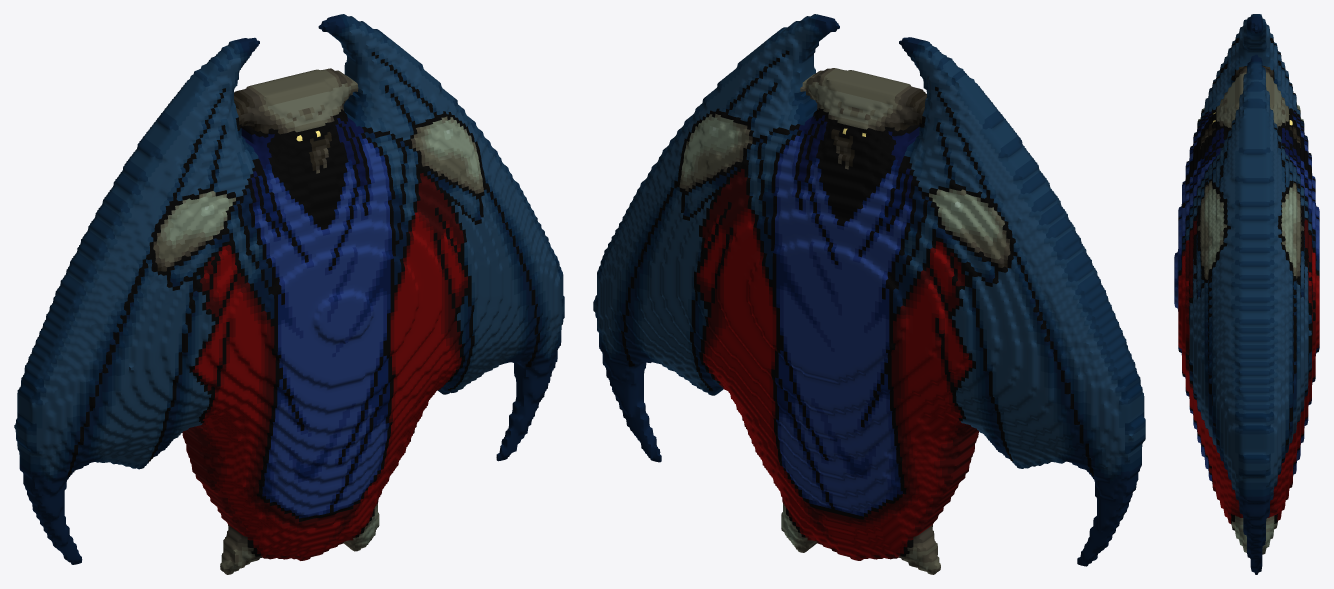
File: Fight_732_3_04.obj
3 views of the same model, side by side, from view 1: azimuth 30°, elevation 25°; view 2: azimuth 150°, elevation 25°; view 3: azimuth 270°, elevation 25° (orthographic). The views are drawn at different scales.
Bounding box in the file's own units: 14.8 × 14.1 × 3.8.
Materials: 1 (1 with a texture image).
